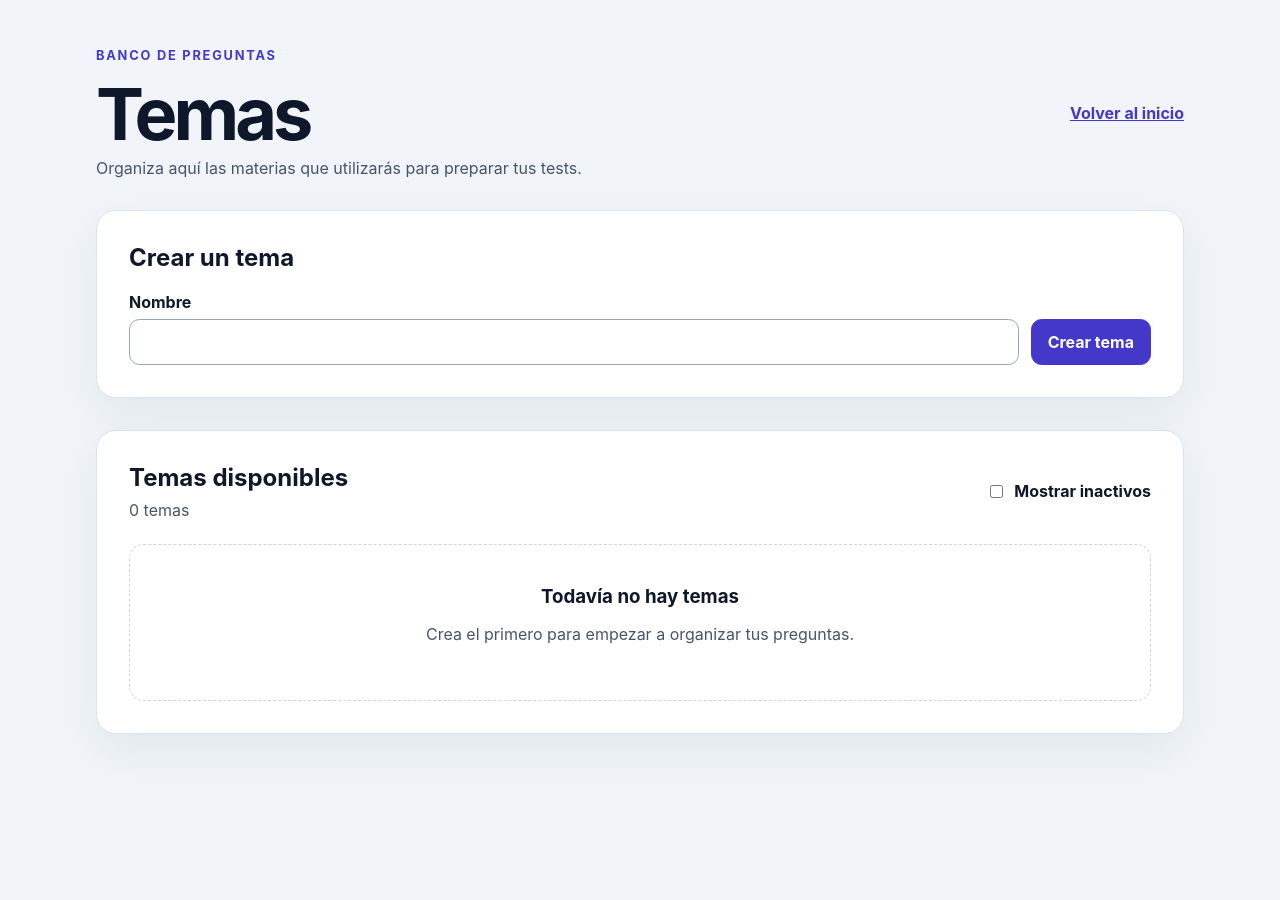
Test: TopicsPage › shows backend field errors next to the name input and restores focus
This screenshot has width=1280, height=900.
Check: the heading "Todavía no hay temas" is shown, box [541, 585, 739, 608]
Type "Tema" into the field labelled "Nombre" at (574, 342), box [129, 319, 1019, 365]
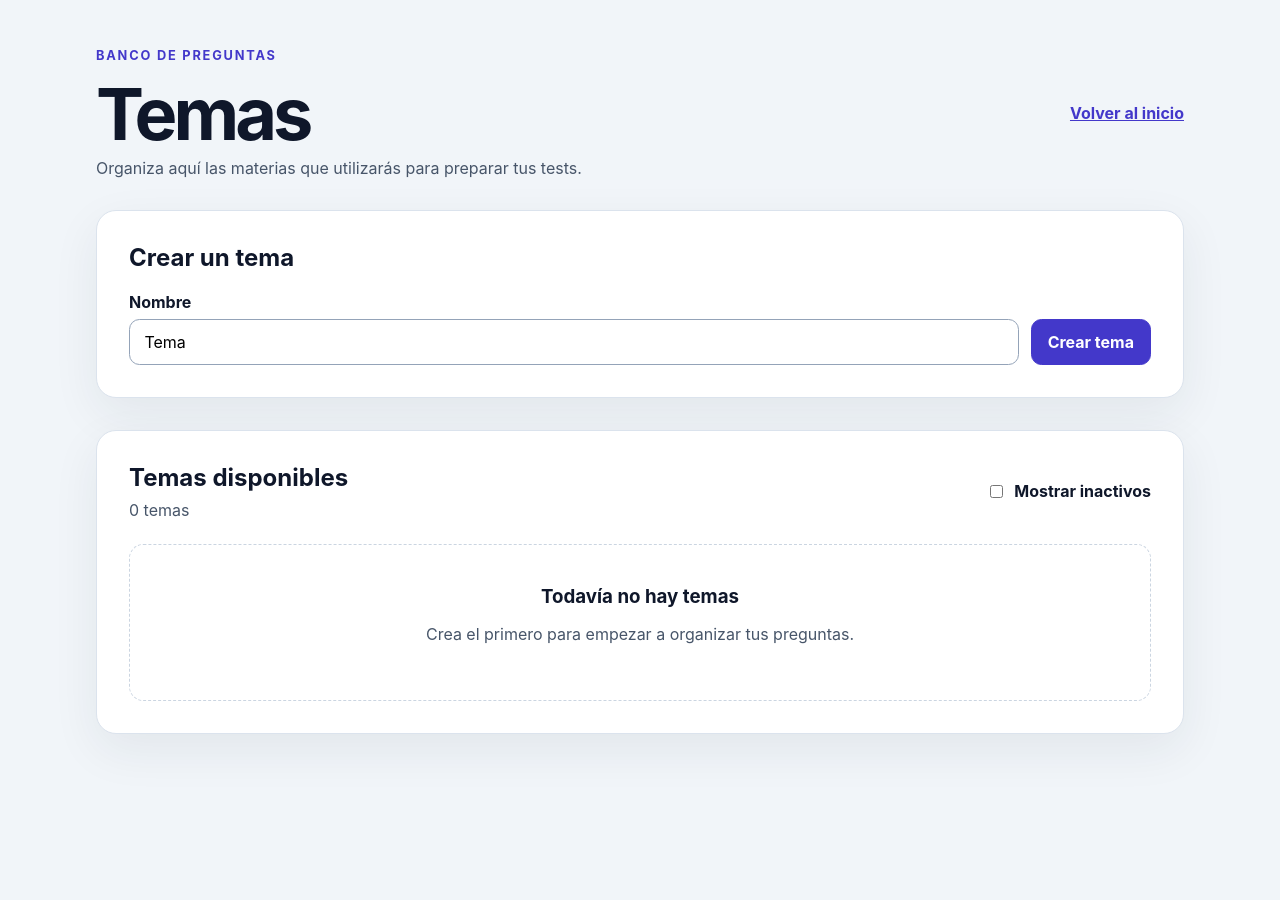
Click the button "Crear tema" at (1091, 342), box [1031, 319, 1151, 365]
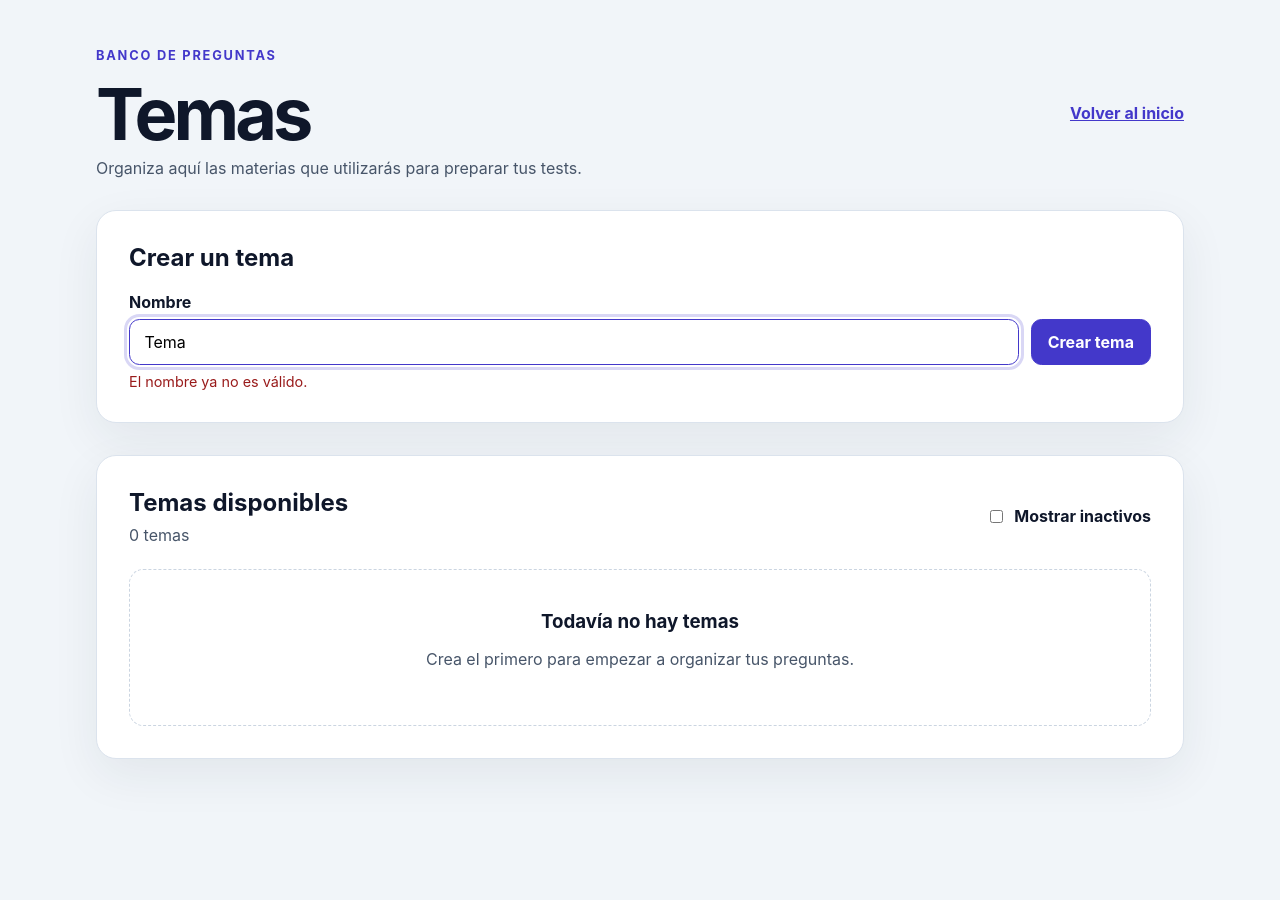
Check: the text "El nombre ya no es válido." is shown, box [129, 373, 307, 390]
